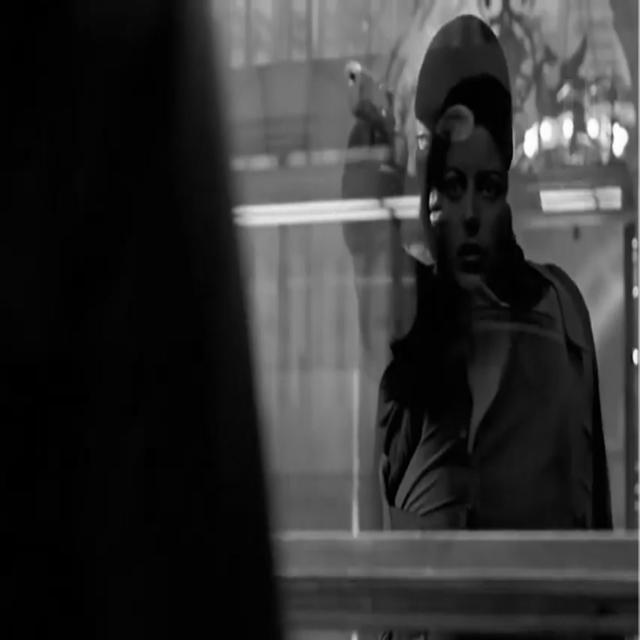gun: (344, 60, 395, 150)
